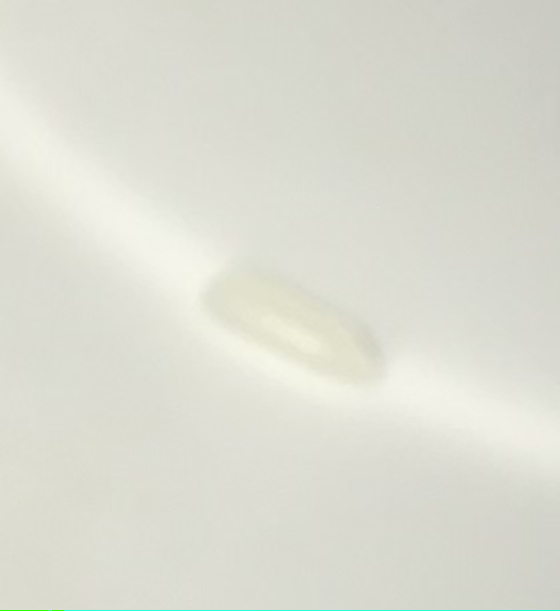Gao Ngoc Troi: (202, 257, 375, 391)
